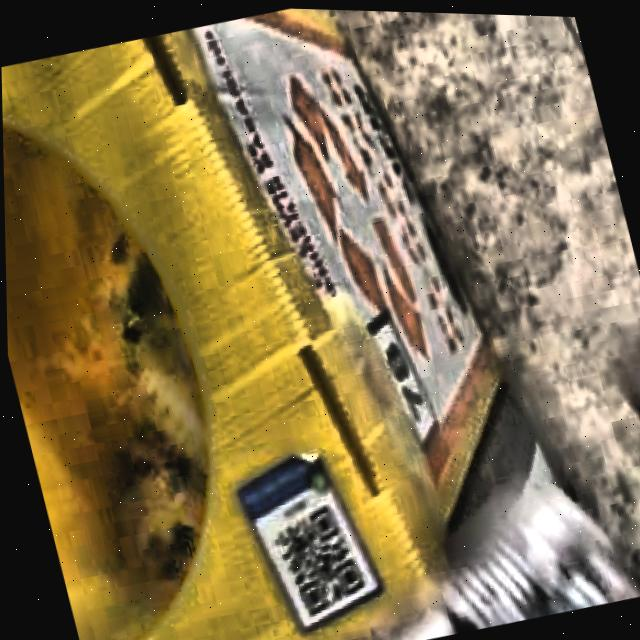plastic: (372, 478, 640, 640)
